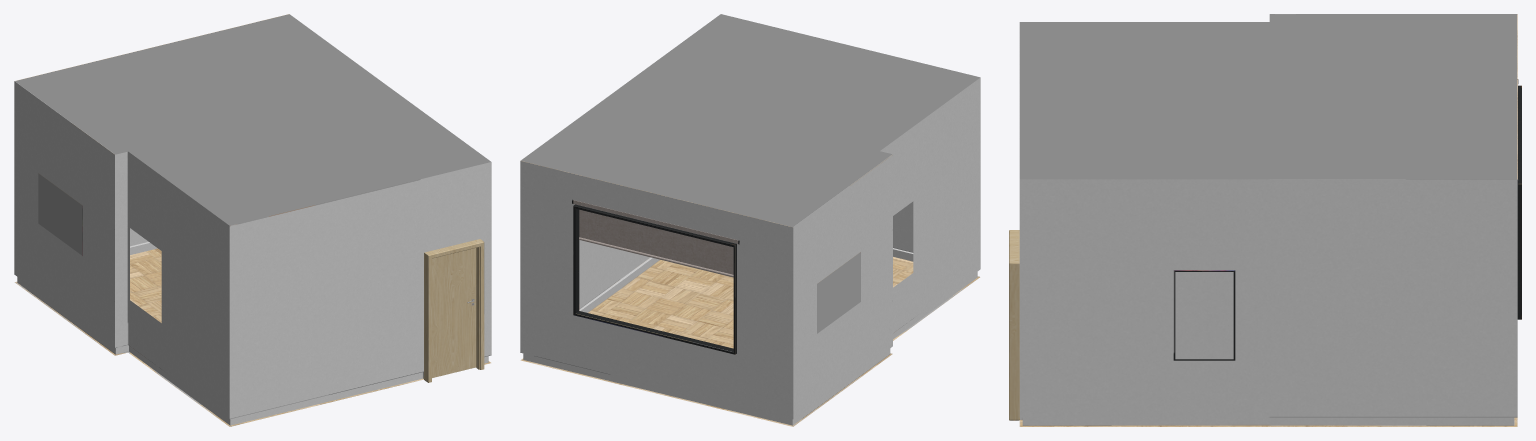
The model's file is Esctructura 1.fbx.
3 views of the same model, side by side, from view 1: azimuth 30°, elevation 25°; view 2: azimuth 150°, elevation 25°; view 3: azimuth 270°, elevation 25° (orthographic). The views are drawn at different scales.
Visible parts, largest first — view 1: Estructura.071; view 2: Estructura.071; view 3: Estructura.071.
Boxes of the visible parts, x1=… form: Estructura.071: x1=14, y1=14, x2=491, y2=426; Estructura.071: x1=520, y1=14, x2=980, y2=426; Estructura.071: x1=1009, y1=14, x2=1521, y2=426.
Bounding box in the file's own units: 5.45 × 3.82 × 7.15.
